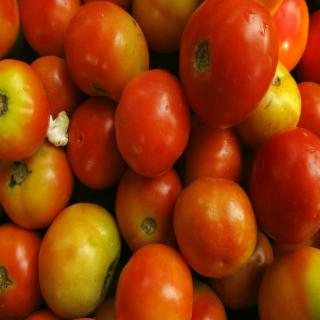tomato: (0, 0, 320, 320), (174, 170, 256, 282)
